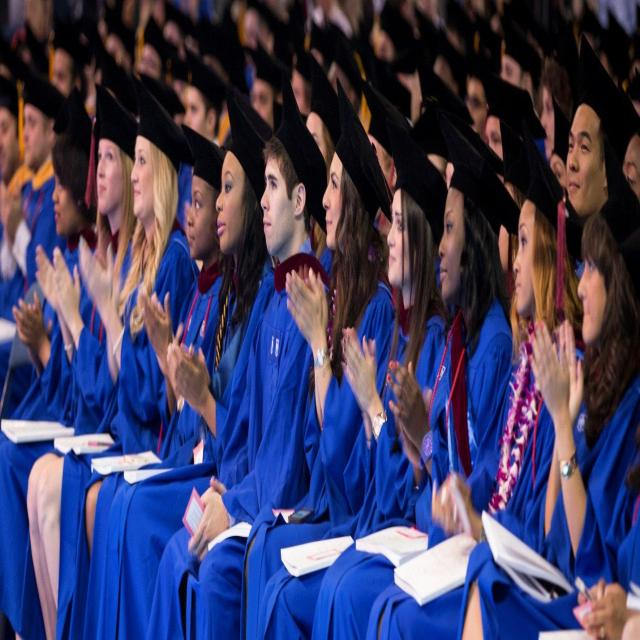body: (0, 0, 640, 220), (363, 109, 591, 640), (311, 95, 522, 640), (144, 86, 334, 640), (98, 81, 274, 639), (236, 73, 402, 640), (349, 101, 523, 640), (434, 112, 586, 640), (96, 118, 232, 640), (22, 76, 140, 640), (26, 80, 142, 640), (0, 84, 96, 640), (0, 66, 69, 386), (564, 29, 640, 222)
